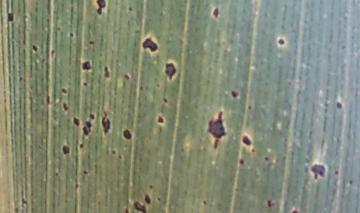tarspot: (204, 108, 227, 151), (141, 36, 160, 54), (311, 161, 326, 182), (100, 110, 111, 136), (163, 61, 177, 80), (132, 197, 148, 213), (92, 1, 108, 16), (119, 127, 135, 141), (79, 58, 94, 72), (240, 133, 253, 148), (5, 8, 16, 25), (59, 143, 72, 156), (333, 99, 346, 112), (229, 86, 239, 102), (101, 64, 111, 80), (19, 193, 30, 207), (71, 114, 81, 129), (44, 91, 52, 108), (236, 155, 248, 166), (155, 114, 166, 125), (210, 7, 222, 17), (66, 29, 76, 41), (143, 191, 152, 204), (264, 197, 273, 210), (30, 43, 40, 54), (59, 86, 70, 96), (121, 70, 131, 81), (61, 101, 70, 113), (86, 111, 98, 120), (126, 3, 135, 15), (137, 84, 147, 94), (201, 197, 209, 209), (288, 206, 301, 213), (277, 37, 286, 47), (77, 141, 86, 151), (261, 154, 271, 163), (86, 38, 96, 47), (73, 182, 82, 192), (246, 102, 254, 113), (80, 79, 89, 88), (82, 168, 91, 177), (332, 167, 340, 176), (161, 95, 169, 104), (110, 147, 117, 157)
